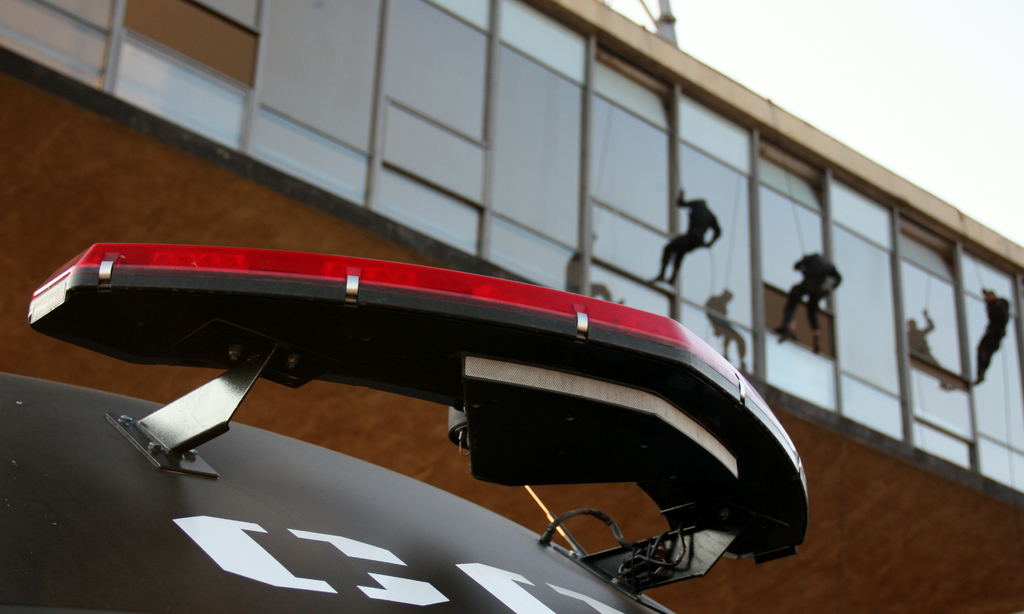Car: (0, 240, 806, 613)
